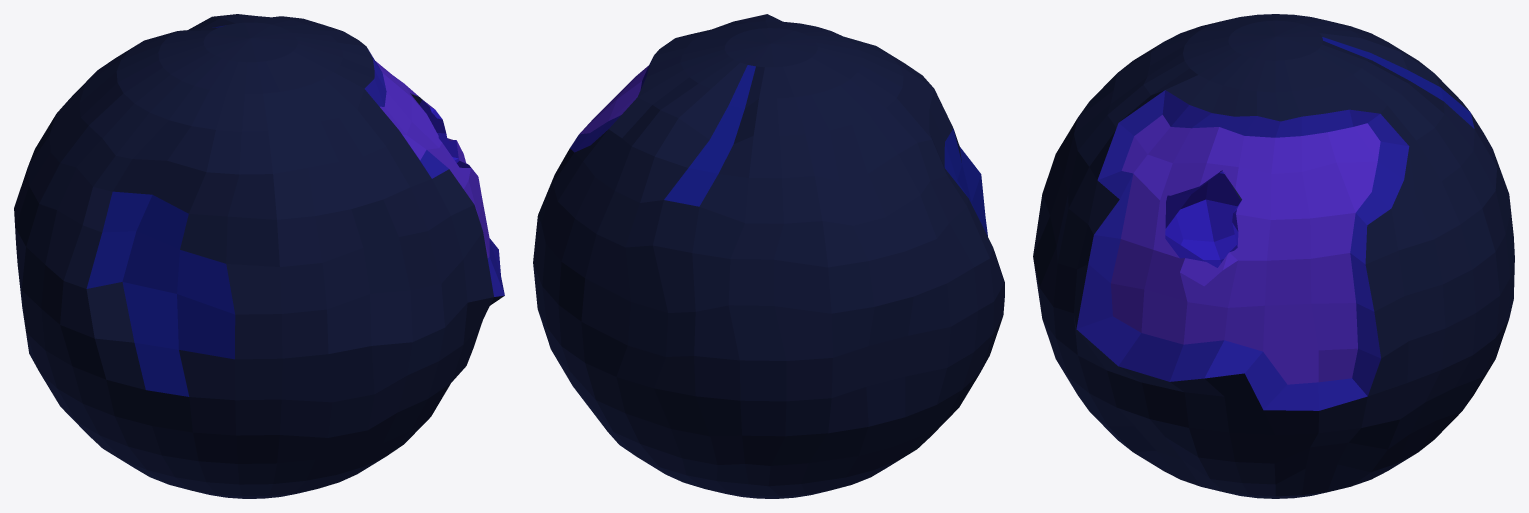
The model's file is DeformedSphere.fbx.
3 renders of one model, left to right at view 1: azimuth 30°, elevation 25°; view 2: azimuth 150°, elevation 25°; view 3: azimuth 270°, elevation 25°, orthographic.
Visible parts, largest first — view 1: Sphere; view 2: Sphere; view 3: Sphere.
Boxes of the visible parts, x1,y1,x2,y2 form: Sphere: [14, 14, 504, 498]; Sphere: [533, 14, 1004, 498]; Sphere: [1033, 14, 1514, 498].
Bounding box in the file's own units: 203 × 200 × 199.
